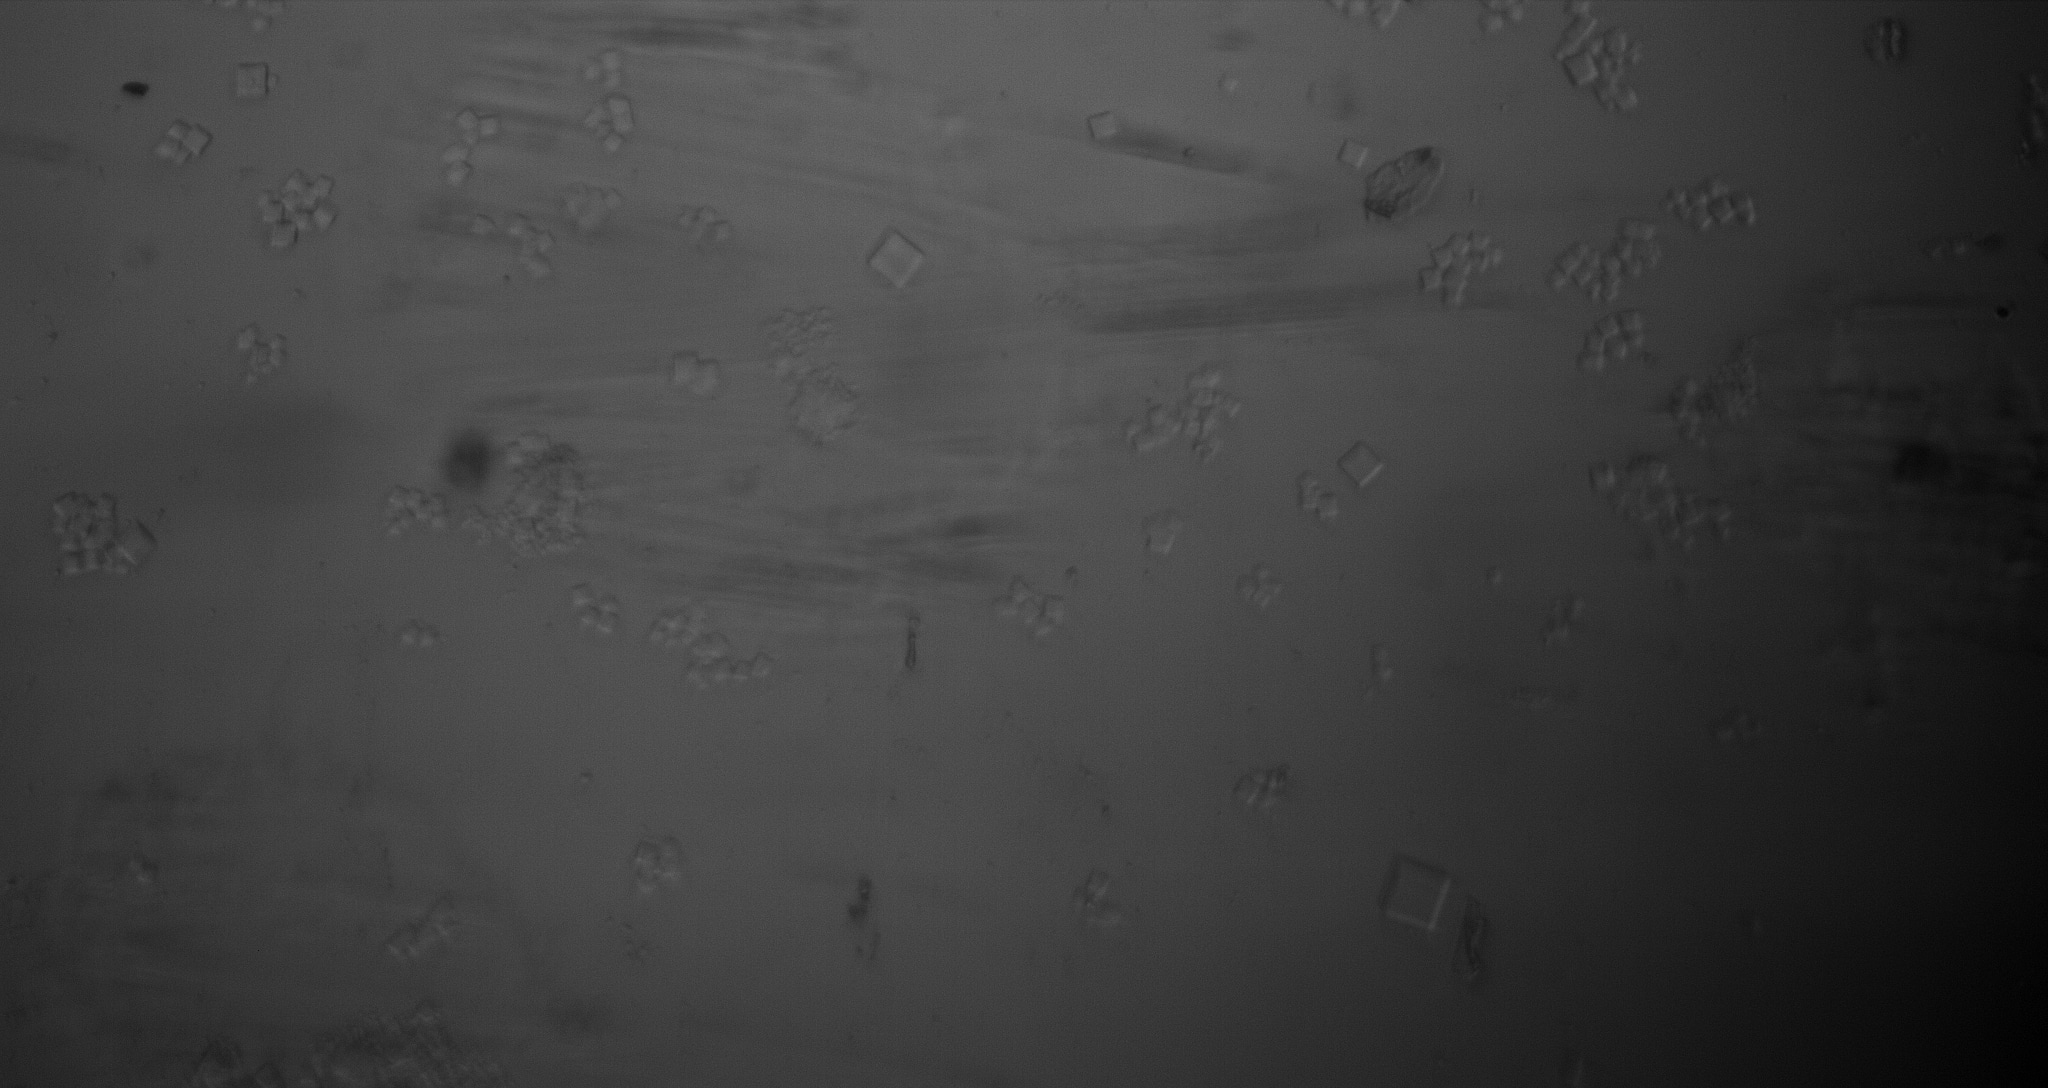square: (1378, 850, 1452, 936), (868, 230, 926, 293), (1337, 442, 1388, 489), (230, 61, 274, 102), (666, 344, 702, 388), (1340, 131, 1369, 173), (183, 121, 213, 159), (1569, 51, 1600, 87), (1146, 528, 1178, 554), (1590, 459, 1616, 492), (1088, 115, 1120, 140), (570, 580, 597, 606), (1415, 270, 1443, 291)
